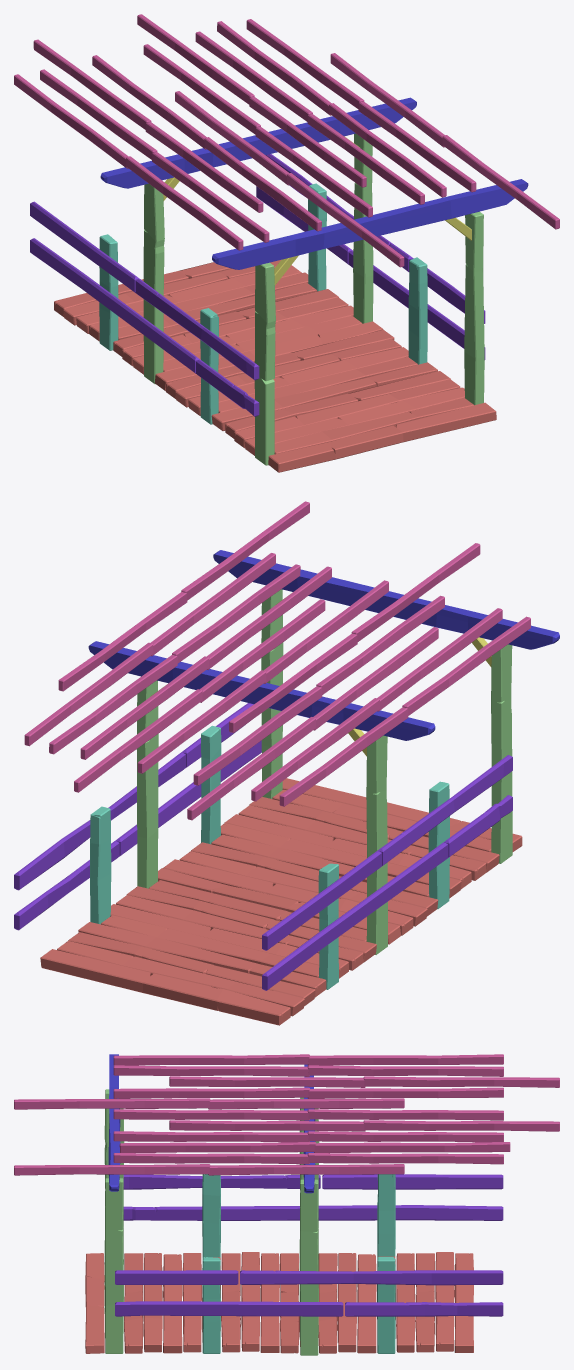
File: wisteria_bridge01.fbx
3 renders of one model, top to bottom at view 1: azimuth 30°, elevation 25°; view 2: azimuth 150°, elevation 25°; view 3: azimuth 270°, elevation 25°, orthographic. The views are drawn at different scales.
Parts seen in each view (by area): view 1: bridge; view 2: bridge; view 3: bridge.
Part boxes in pixels (left/top/right/bottom): bridge: left=14, top=14, right=559, bottom=472; bridge: left=14, top=501, right=559, bottom=1025; bridge: left=14, top=1054, right=559, bottom=1355.
Size of the model in its own units: 327 by 229 by 568.
